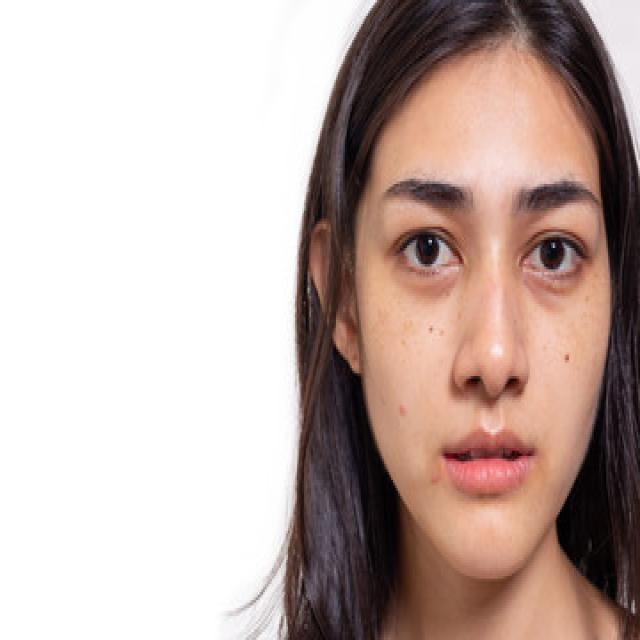Eyebags: (520, 269, 584, 312), (398, 268, 459, 300)
